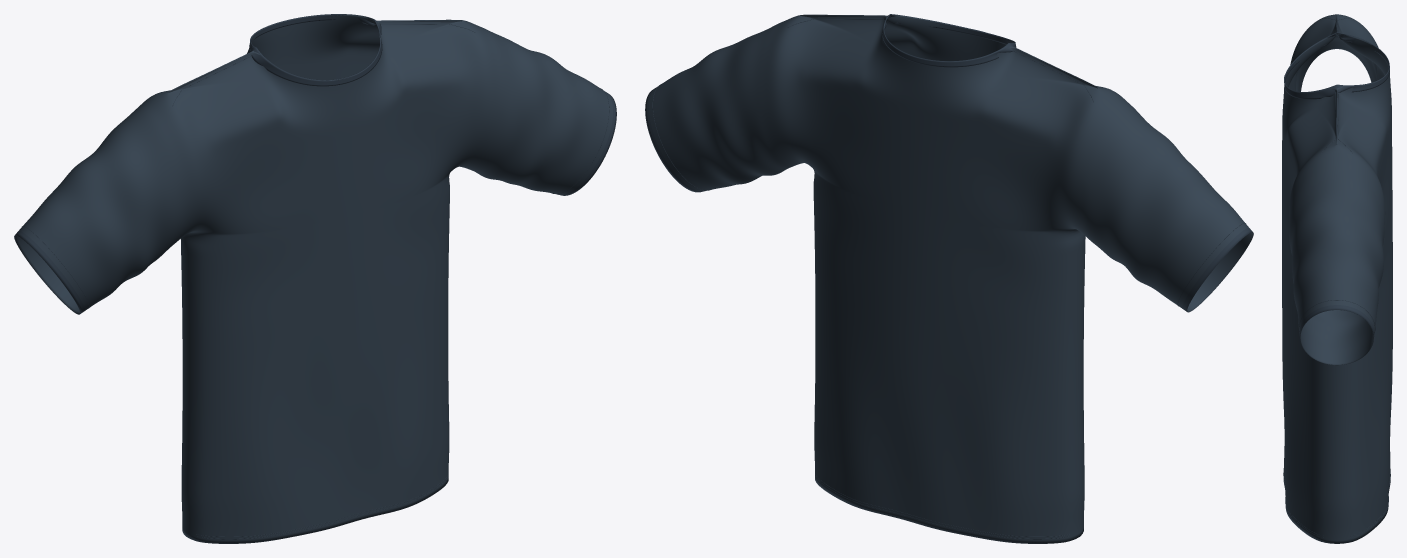
The model's file is tee-regular.glb.
3 views of the same model, side by side, from view 1: azimuth 30°, elevation 25°; view 2: azimuth 150°, elevation 25°; view 3: azimuth 270°, elevation 25° (orthographic). The views are drawn at different scales.
Parts seen in each view (by area): view 1: tee-regular, Collar; view 2: tee-regular, Collar; view 3: tee-regular, Collar.
Part boxes in pixels (bbox=[...]): tee-regular: bbox=[14, 15, 616, 543]; Collar: bbox=[249, 14, 382, 86]; tee-regular: bbox=[645, 14, 1253, 543]; Collar: bbox=[882, 14, 1016, 67]; tee-regular: bbox=[1282, 14, 1392, 543]; Collar: bbox=[1284, 32, 1389, 99].
Bounding box in the file's own units: 1.76 × 1.34 × 0.3153.
